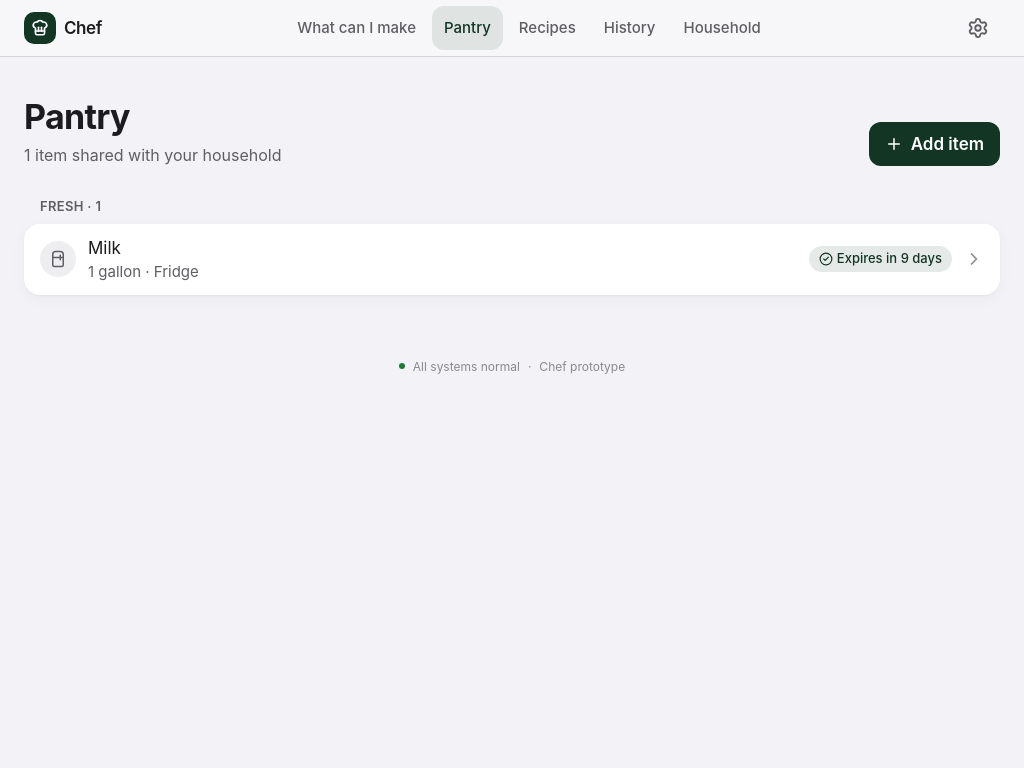
Test case: PantryPage › edits an item, going back to the estimate when the date is cleared
Click the button "Milk 1 gallon · fridge Expires in 9 days" at (58, 259), box [24,224,1000,295]
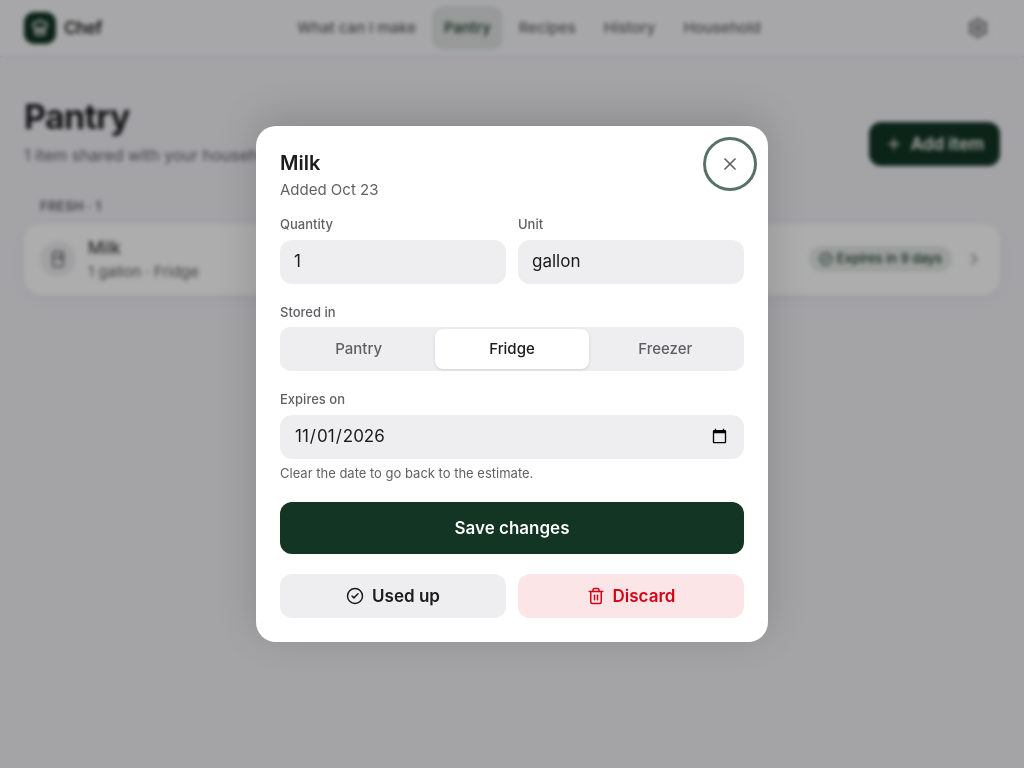
Replace the text in the number field labelled "Quantity" with "0.5" at (393, 262), box [280,240,506,284]
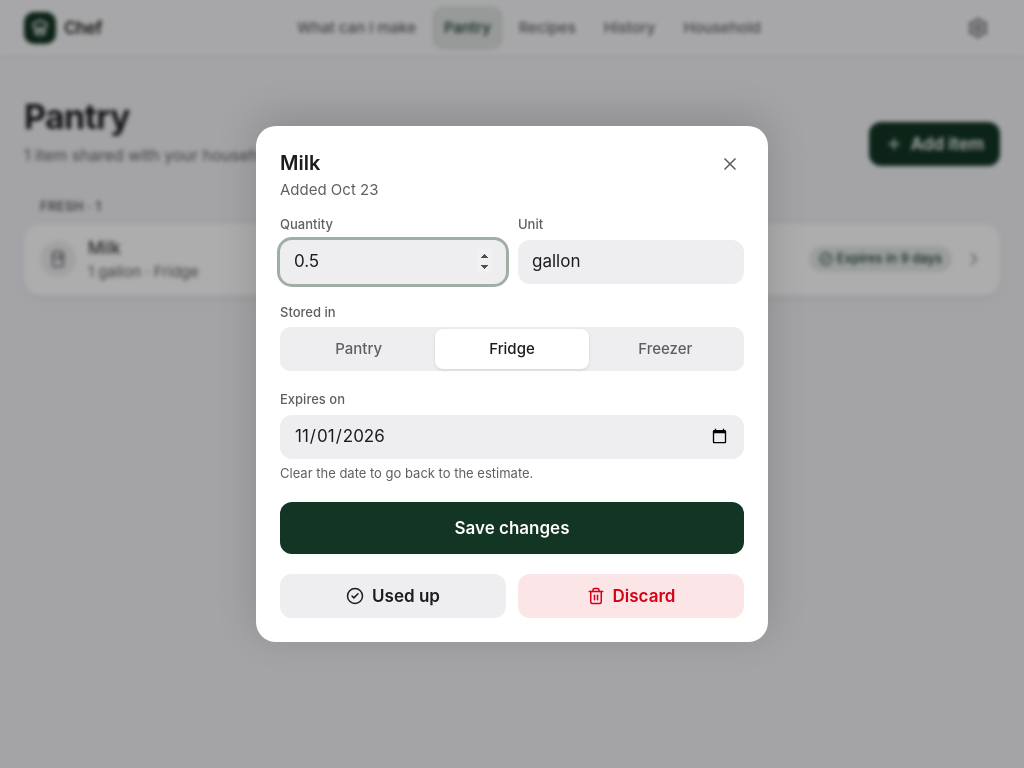
Click the radio button labelled "Freezer" at (665, 349), box [589,329,742,369]
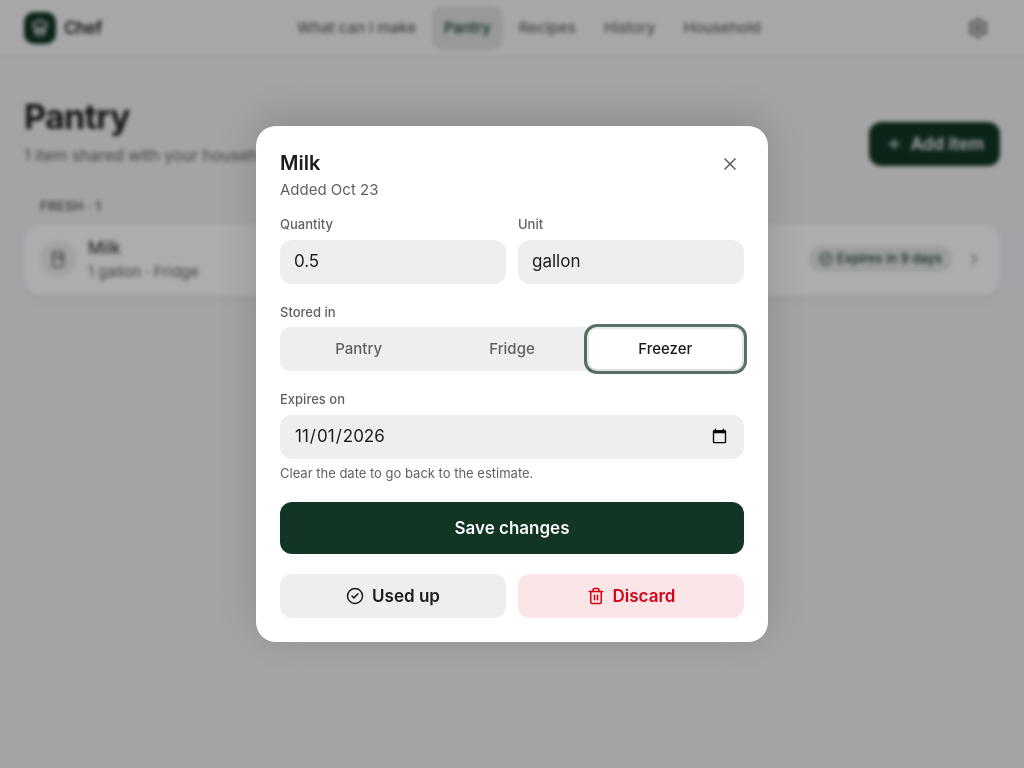
Clear the date field labelled "Expires on" at (512, 437), box [280,415,744,459]
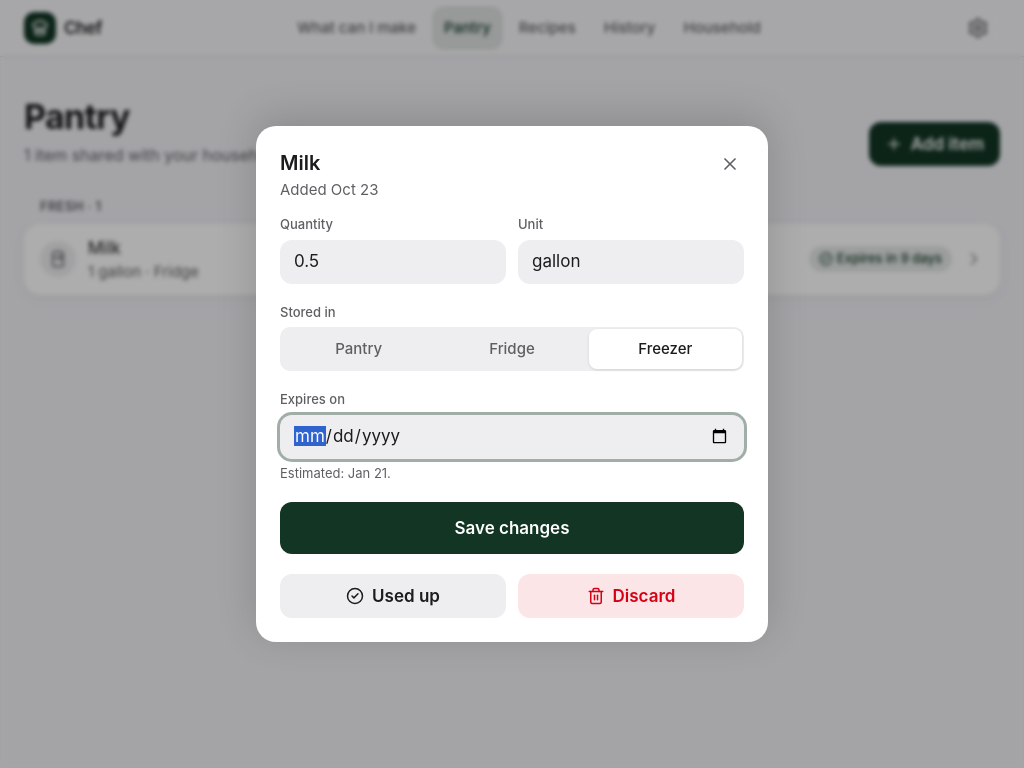
Click the button "Save changes" at (512, 528), box [280,502,744,554]
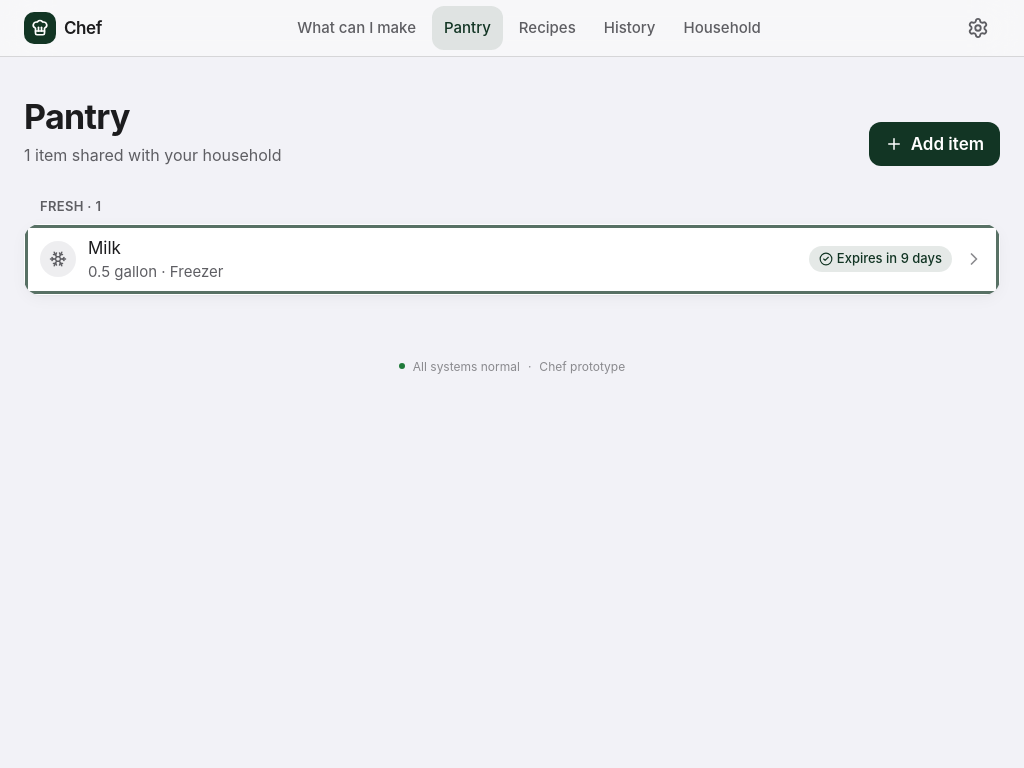
expect the dialog is gone: met
